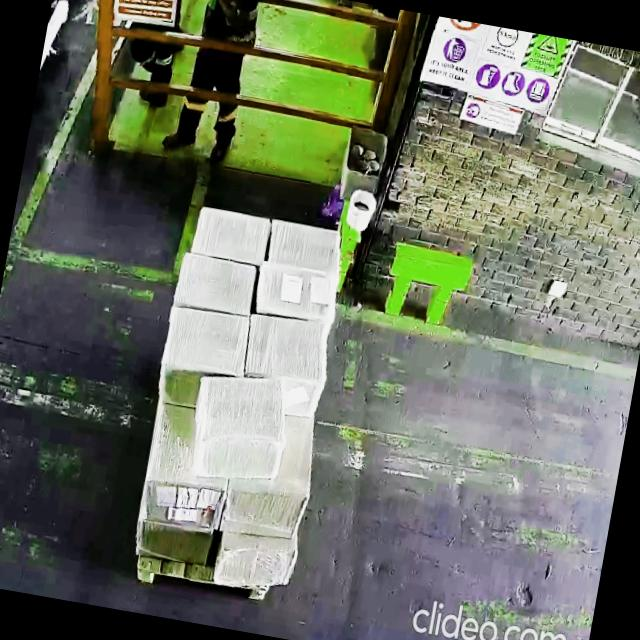Box: (177, 376, 297, 486), (241, 311, 335, 390), (160, 301, 250, 381), (172, 254, 260, 315), (138, 467, 224, 528), (222, 474, 308, 535), (252, 262, 337, 322), (189, 203, 267, 267), (264, 216, 346, 274), (216, 532, 294, 590), (132, 518, 214, 566)
